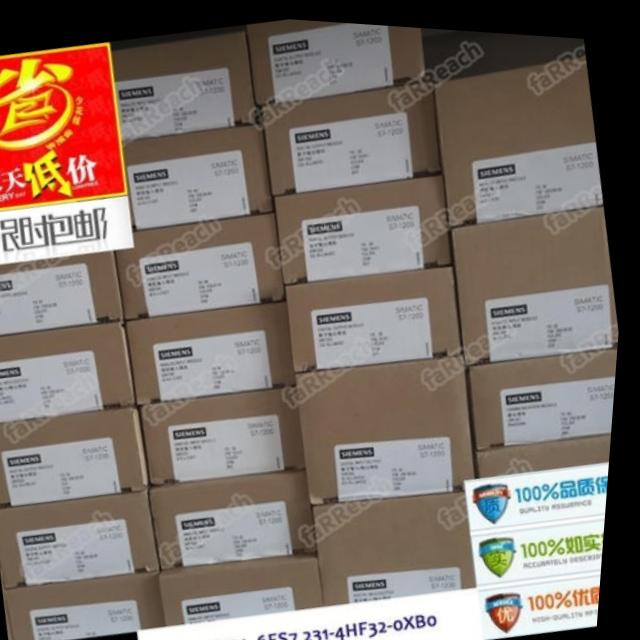box: (433, 49, 604, 222), (299, 349, 485, 501), (449, 195, 623, 357), (260, 79, 440, 195), (276, 170, 453, 282), (290, 261, 468, 368), (117, 208, 291, 316), (321, 487, 484, 601), (132, 296, 299, 404), (1, 487, 168, 590), (160, 464, 326, 567), (146, 382, 313, 484), (112, 28, 260, 138), (124, 120, 276, 227), (470, 337, 622, 443), (0, 407, 158, 507), (245, 15, 426, 102), (0, 320, 141, 420), (169, 548, 331, 626), (12, 569, 176, 640), (0, 249, 131, 336), (481, 425, 617, 470)
